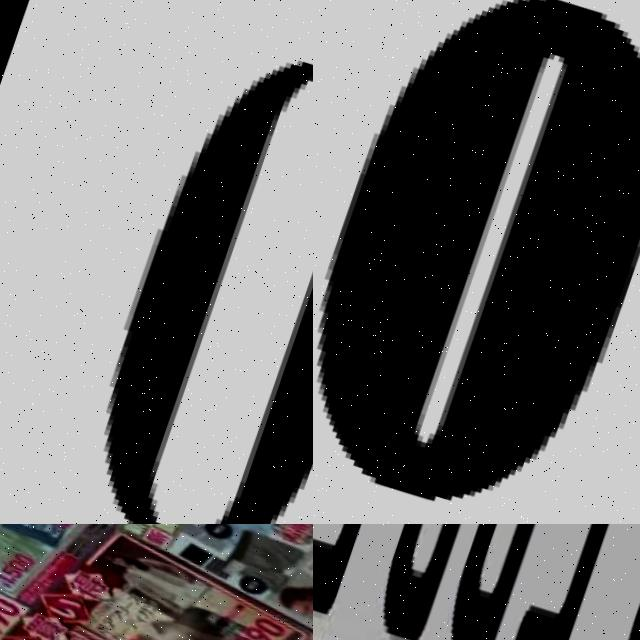0: (313, 0, 640, 524)
9: (313, 524, 443, 618)
B: (360, 524, 601, 640)
E: (313, 524, 509, 622), (495, 524, 640, 640)
P: (438, 524, 640, 640)
